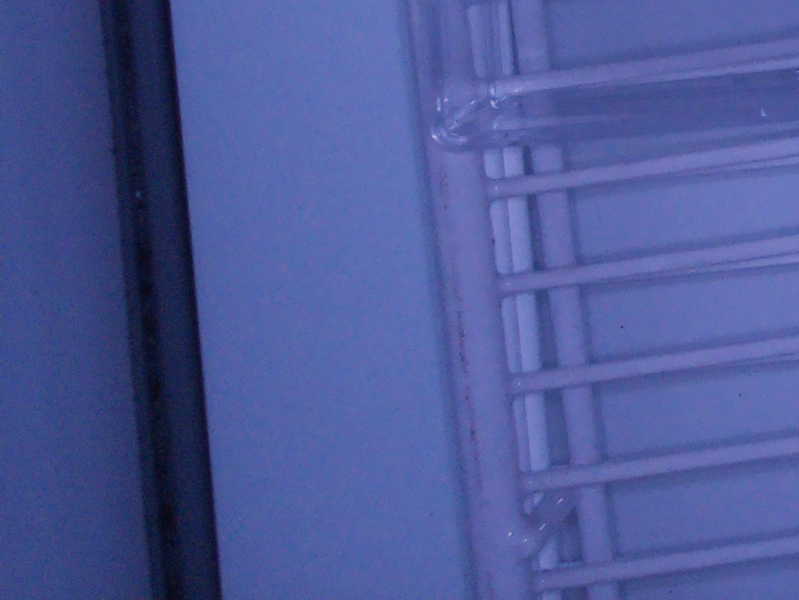plate: (427, 1, 799, 151)
